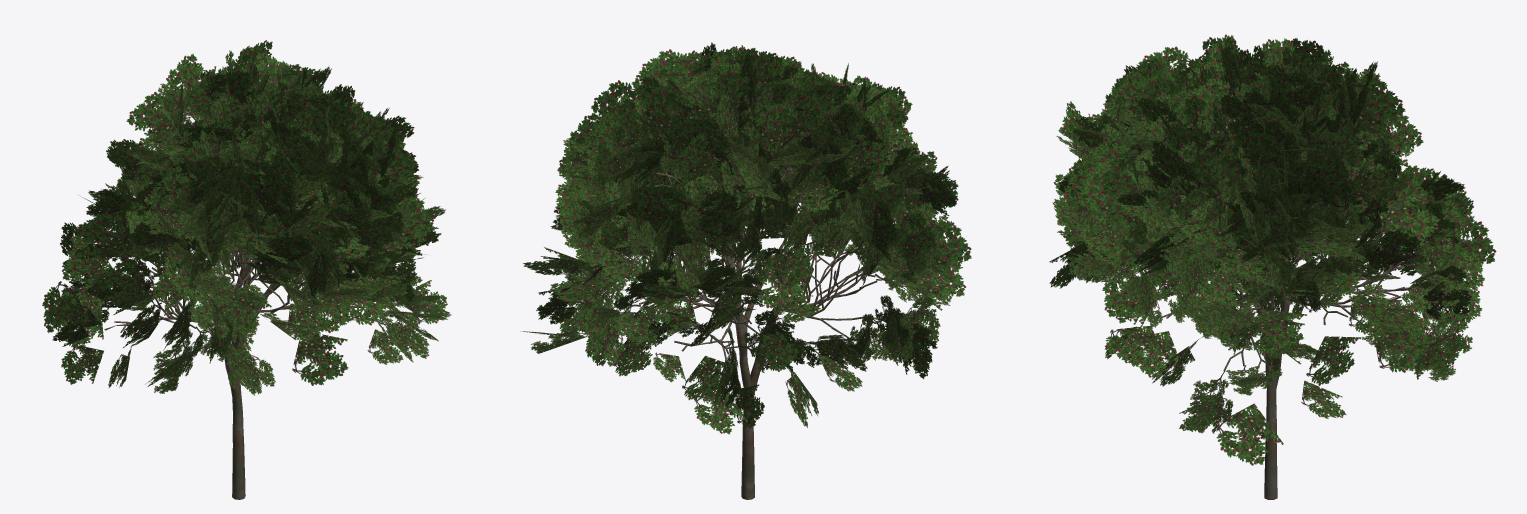
The model's file is forest-cherry-tree-v1.glb.
The picture shows the model from 3 angles, left to right: view 1: azimuth 30°, elevation 25°; view 2: azimuth 150°, elevation 25°; view 3: azimuth 270°, elevation 25°; orthographic projection. The views are drawn at different scales.
Parts seen in each view (by area): view 1: CherryTree; view 2: CherryTree; view 3: CherryTree.
Boxes of the visible parts, bbox=[...] form: CherryTree: bbox=[42, 40, 451, 499]; CherryTree: bbox=[520, 42, 971, 499]; CherryTree: bbox=[1049, 34, 1496, 499].
Bounding box in the file's own units: 3.34 × 3.5 × 3.28.
Materials: 2 (2 with a texture image).
